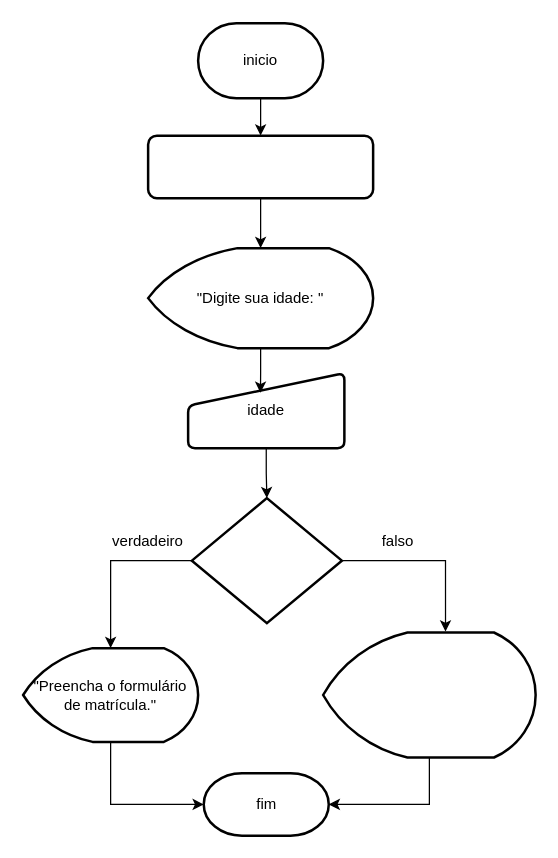
Some shapes in this 558 by 858 pixel diagram are drawn without their labels. The shapes that lost their labels are listed below. From the top down, each one's box as (x1, y1, x2, y2) in pixels, then its label:
(146, 134, 374, 199): inteiro idade
(190, 496, 342, 624): idade >= 18
(321, 631, 536, 758): "Peça aos seus pais ou responsável para preencher o formulário de matrícula."
